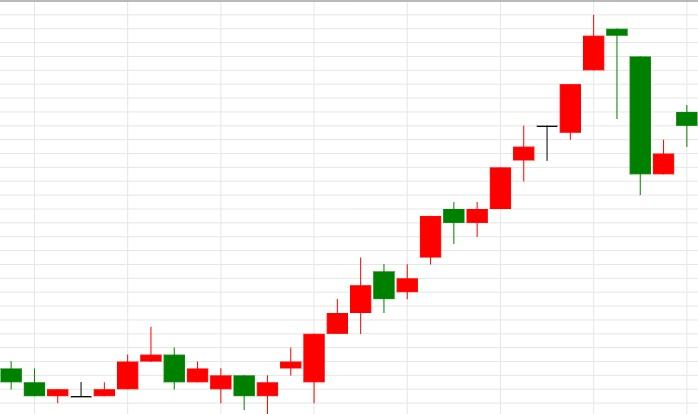evening_star_fall: (466, 15, 651, 237)
